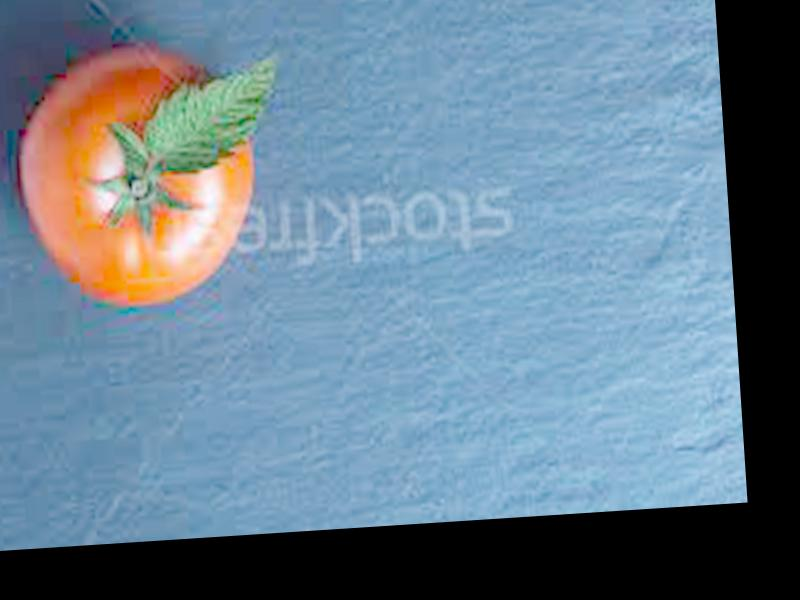Tomato: (15, 44, 264, 311)
